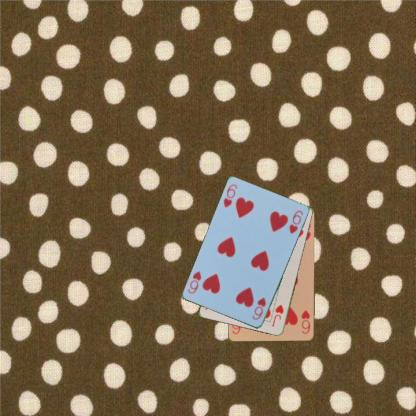6h: (220, 181, 238, 209), (249, 295, 268, 321), (299, 307, 311, 335)
Jh: (269, 302, 285, 328)
